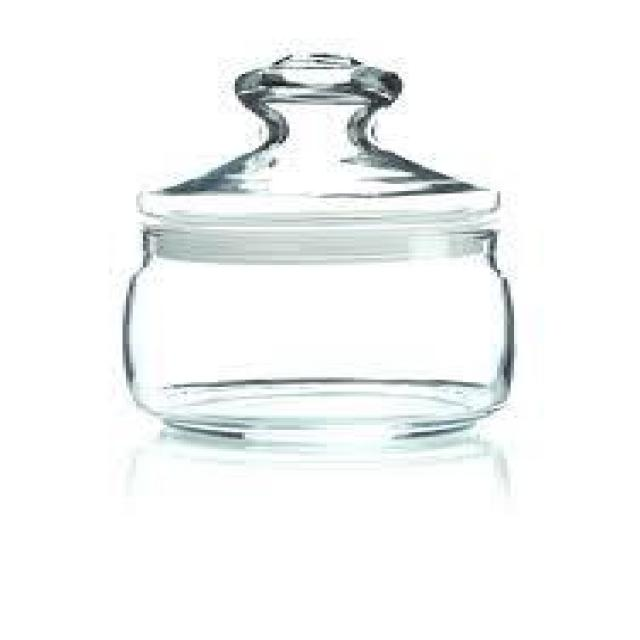non-organic waste: (116, 45, 517, 449)
